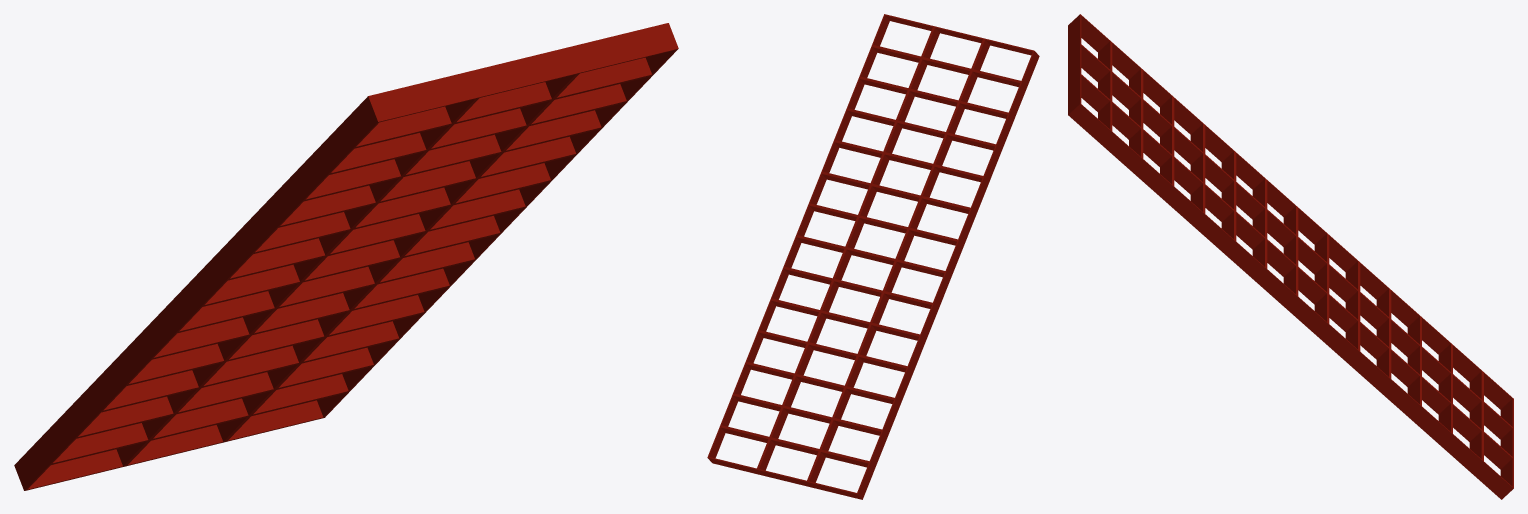
The picture shows the model from 3 angles, left to right: view 1: azimuth 30°, elevation 25°; view 2: azimuth 150°, elevation 25°; view 3: azimuth 270°, elevation 25°; orthographic projection. The views are drawn at different scales.
Parts seen in each view (by area): view 1: Cube.052; view 2: Cube.052; view 3: Cube.052.
Part boxes in pixels (bbox=[...]): Cube.052: bbox=[14, 23, 678, 490]; Cube.052: bbox=[707, 14, 1039, 499]; Cube.052: bbox=[1068, 14, 1513, 499].
Size of the model in its own units: 3.51 by 7.22 by 7.37.
